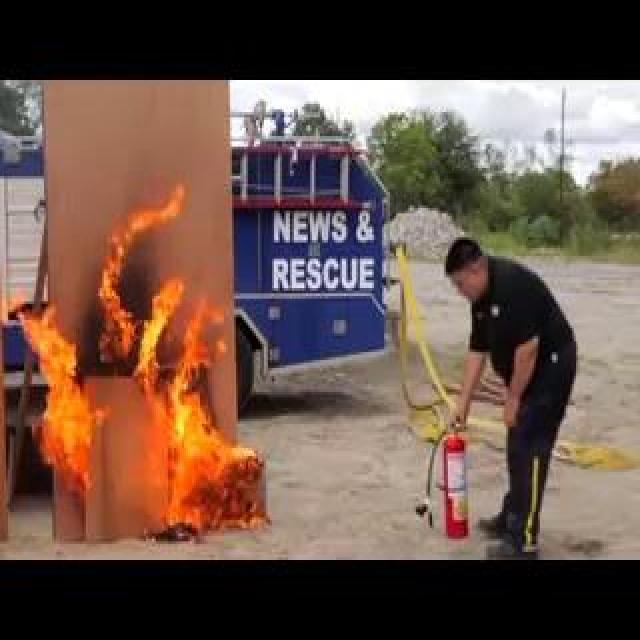Fire: (105, 187, 189, 370), (22, 306, 95, 497), (170, 378, 238, 534), (192, 300, 234, 372)
